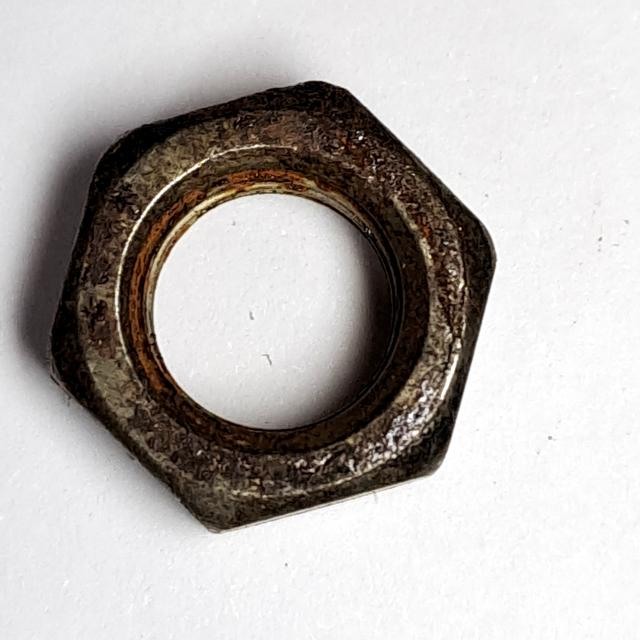Rust: (38, 72, 507, 544)
